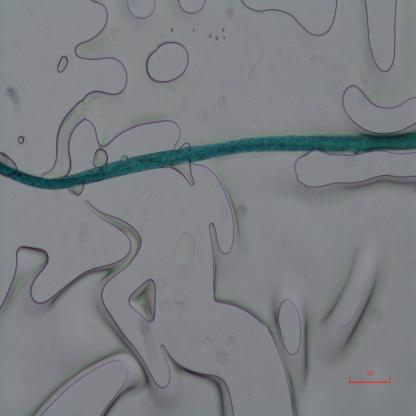Air bubble: (0, 199, 236, 415), (194, 164, 300, 414), (42, 1, 127, 176), (41, 354, 131, 415), (293, 146, 416, 190), (342, 83, 416, 135), (241, 1, 340, 38), (84, 115, 179, 150), (362, 0, 398, 75), (145, 39, 191, 87), (277, 297, 304, 356), (127, 276, 157, 324), (126, 0, 158, 21), (173, 164, 196, 189), (176, 0, 208, 16), (92, 147, 108, 168), (0, 151, 17, 169), (56, 54, 69, 75), (70, 185, 86, 197), (17, 134, 25, 146)
Background material: (315, 245, 378, 355), (171, 231, 196, 264), (200, 335, 214, 354), (172, 300, 185, 320), (235, 201, 247, 219)
Microfibre: (0, 130, 416, 191)
